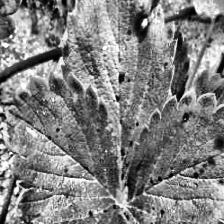Leaf Spot: (59, 0, 179, 191), (0, 71, 129, 224), (121, 89, 223, 224)
